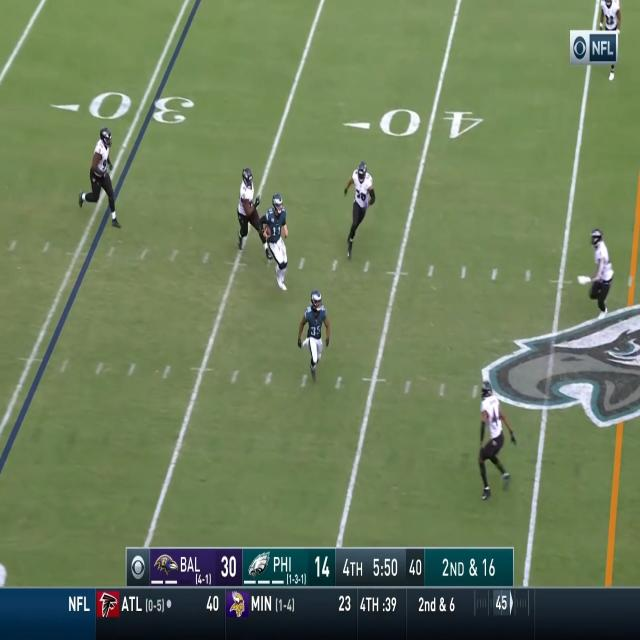football: (264, 225, 271, 235)
players: (474, 381, 516, 499), (78, 127, 122, 230), (259, 192, 293, 294), (238, 167, 272, 266), (578, 230, 614, 322), (345, 160, 375, 262), (298, 290, 330, 383), (599, 0, 622, 79)
